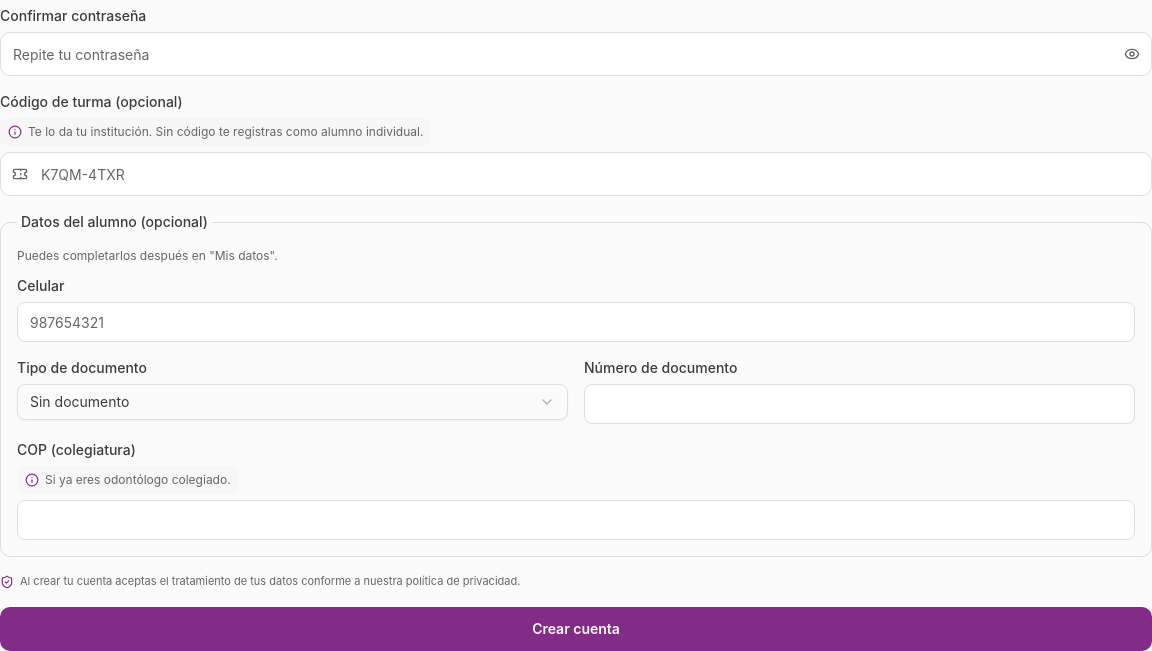
Test: RegisterForm › valida campos obligatorios y no envía la petición
(page scrolled)
Click the button "Crear cuenta": (576, 629) 0,607 -> 1151,650
(page scrolled)
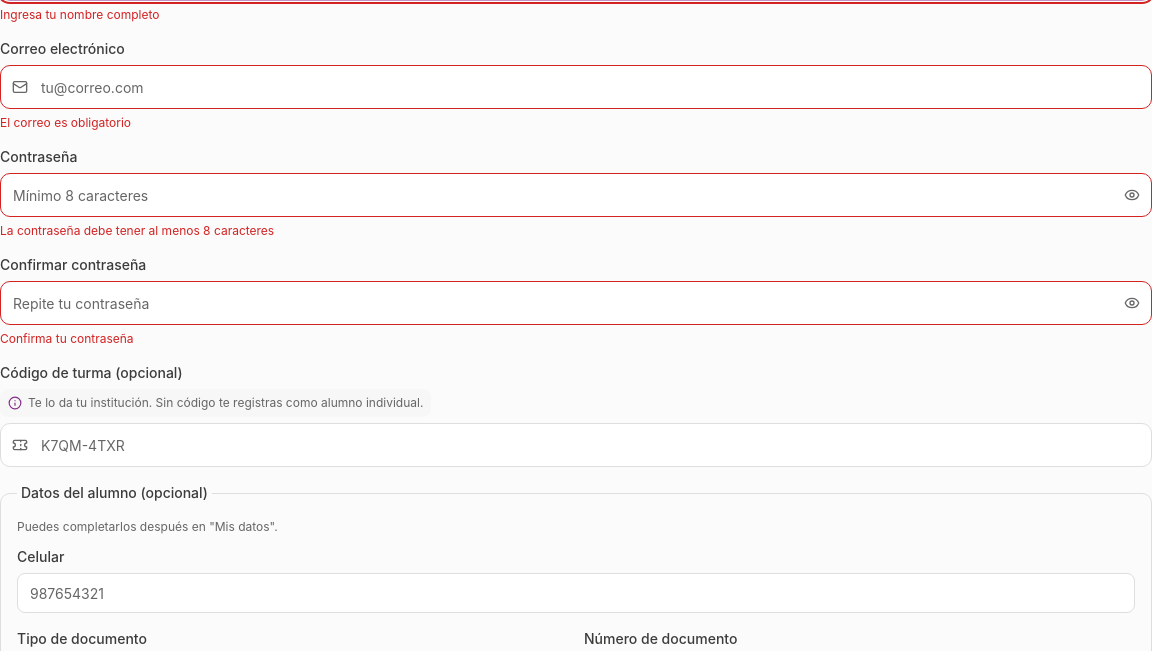
Expected: the text "Ingresa tu nombre completo" is shown, 0,7 -> 160,22
